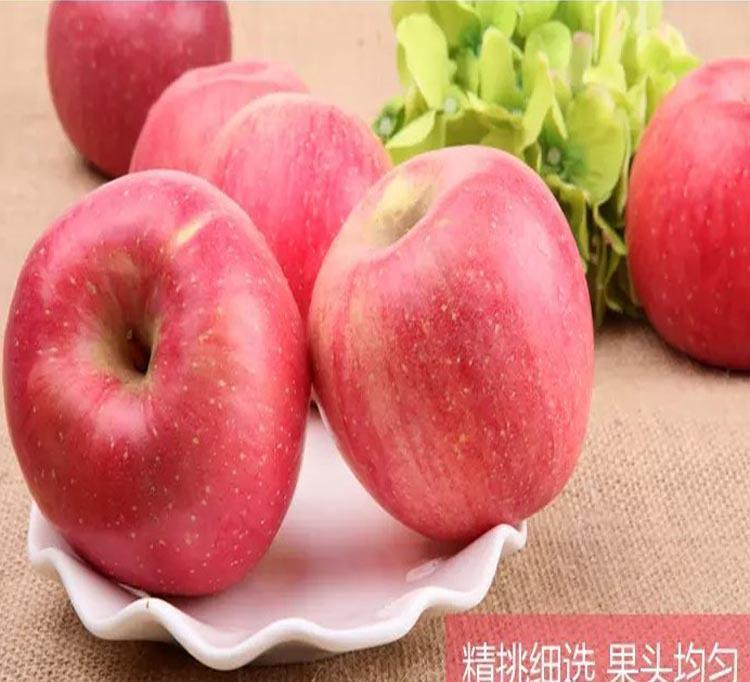apple: (4, 170, 306, 596), (301, 156, 589, 546), (625, 61, 744, 373), (42, 8, 244, 173)
